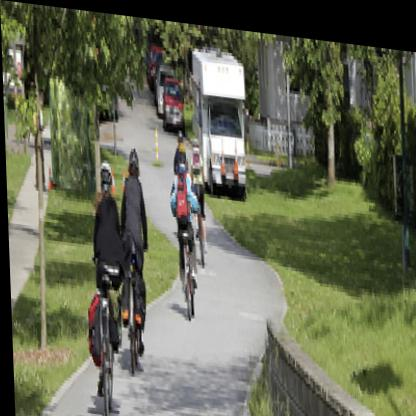With Helmet: (96, 151, 114, 198), (124, 135, 141, 176), (174, 134, 188, 166)
